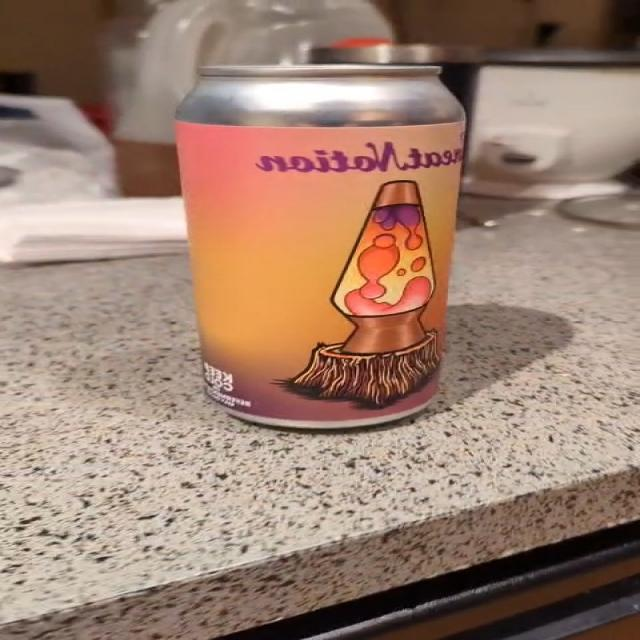metal: (175, 64, 464, 428)
